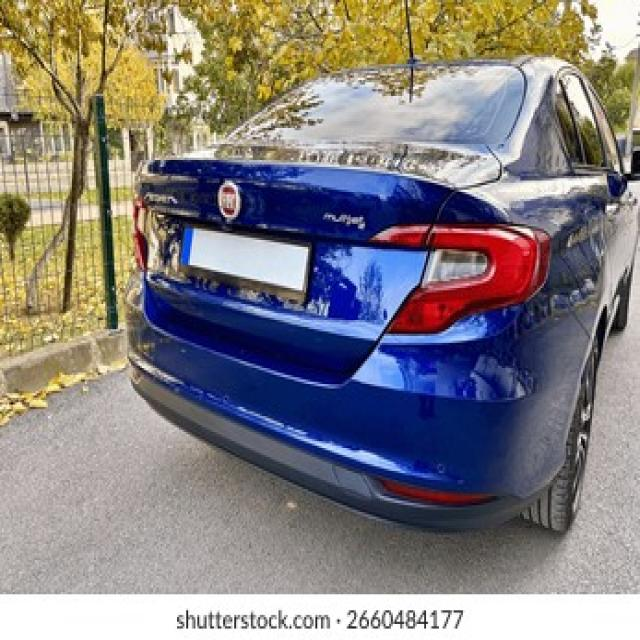fiat: (214, 174, 249, 224)
